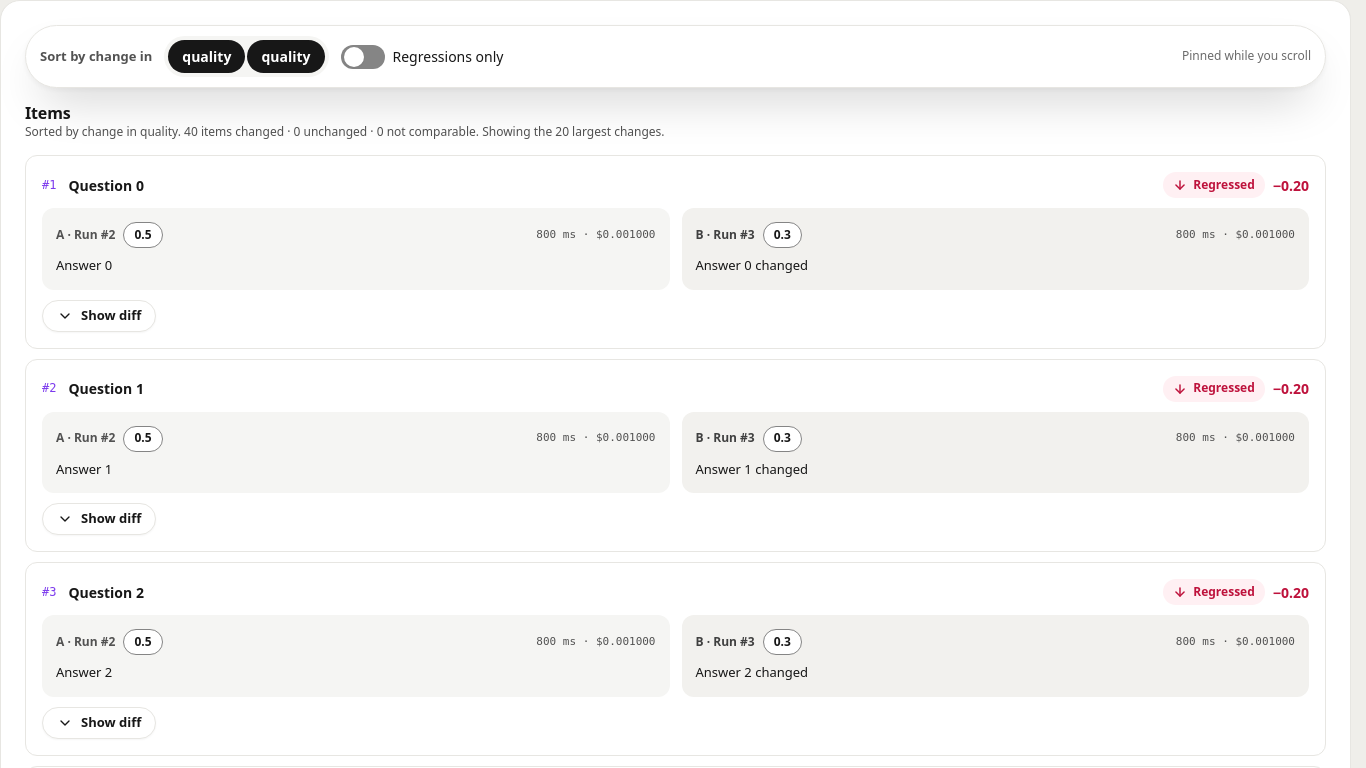
Test: CompareTable Regressions only › hides the switch and its count for a categorical score
This screenshot has width=1366, height=768.
Click the switch named "Regressions only" at (362, 56), box x1=340 y1=44 x2=384 y2=68
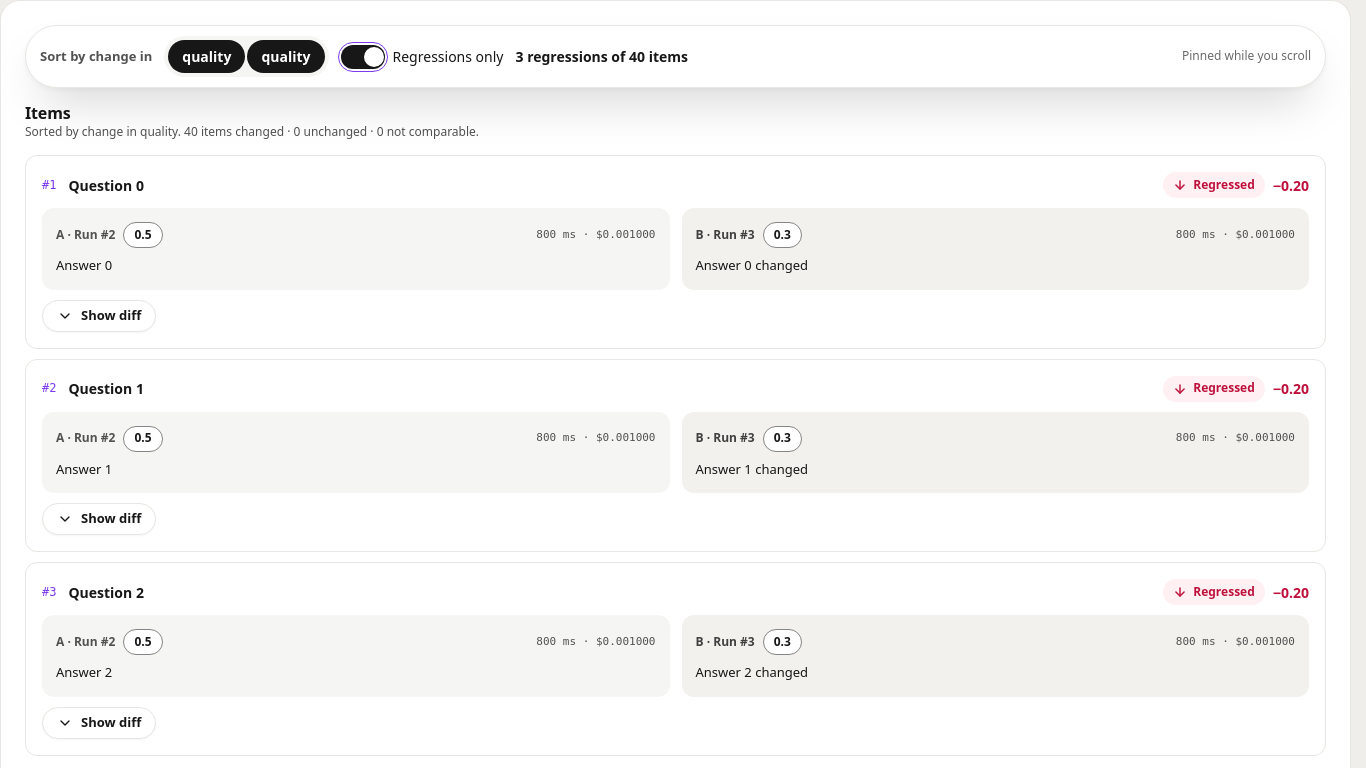
Result: the number of list items is 3 at x1=25 y1=155 x2=1326 y2=349; x1=25 y1=359 x2=1326 y2=552; x1=25 y1=562 x2=1326 y2=756
